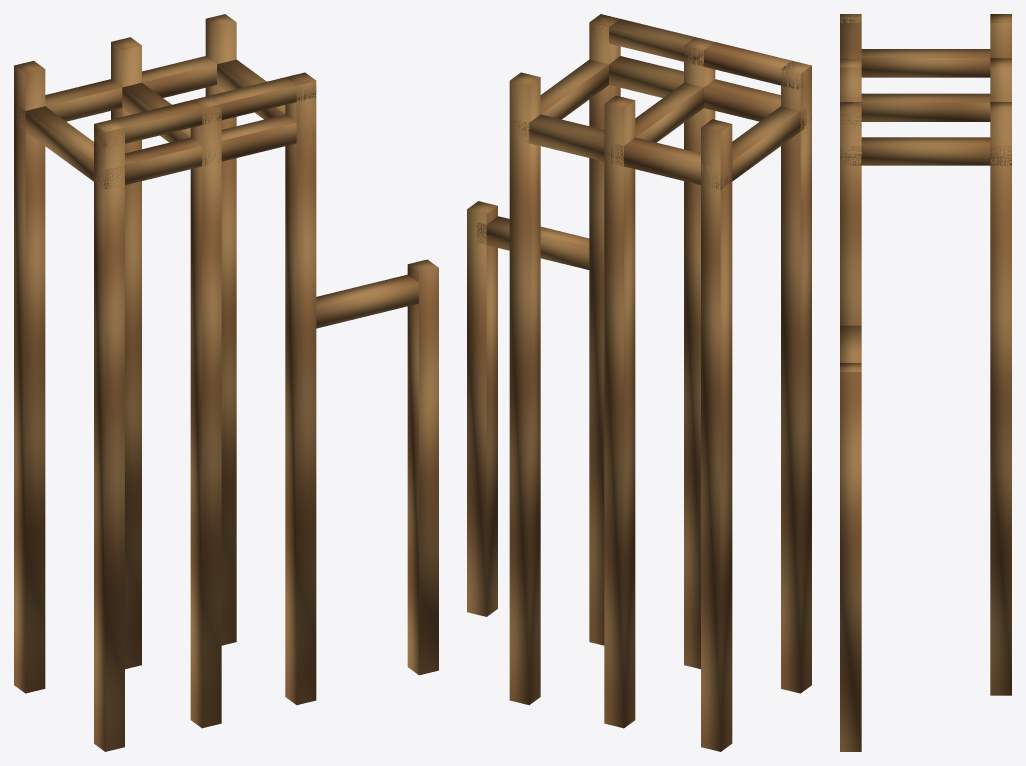
Rendered from gourd-prop-house-frame.glb.
The picture shows the model from 3 angles, left to right: view 1: azimuth 30°, elevation 25°; view 2: azimuth 150°, elevation 25°; view 3: azimuth 270°, elevation 25°; orthographic projection. The views are drawn at different scales.
Visible parts, largest first — view 1: frame; view 2: frame; view 3: frame.
Boxes of the visible parts, left/top/right/bottom form: frame: left=14, top=14, right=438, bottom=751; frame: left=467, top=14, right=811, bottom=751; frame: left=840, top=14, right=1011, bottom=751.
Bounding box in the file's own units: 0.169 × 0.3 × 0.08.
Materials: 1 (1 with a texture image).
